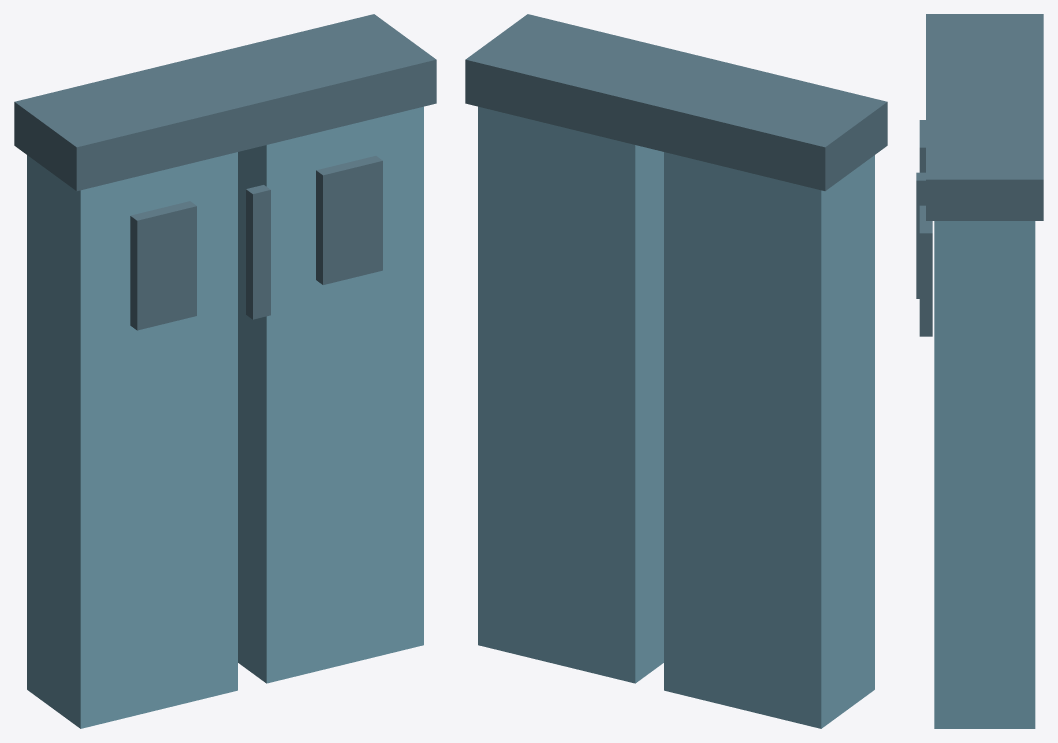
Rendered from pants.glb.
The picture shows the model from 3 angles, left to right: view 1: azimuth 30°, elevation 25°; view 2: azimuth 150°, elevation 25°; view 3: azimuth 270°, elevation 25°; orthographic projection. The views are drawn at different scales.
Visible parts, largest first — view 1: pants-1, pants-2, pants-0, pants-3, pants-4, pants-5; view 2: pants-1, pants-2, pants-0; view 3: pants-2, pants-0, pants-4, pants-5, pants-3.
Boxes of the visible parts, x1,y1,x2,y2 form: pants-1: (27,152,237,728); pants-2: (238,106,423,683); pants-0: (14,14,436,190); pants-3: (130,201,196,330); pants-4: (316,156,382,284); pants-5: (246,185,270,319); pants-1: (664,152,874,728); pants-2: (478,106,663,683); pants-0: (465,14,887,190); pants-2: (934,221,1035,728); pants-0: (926,14,1043,220); pants-4: (919,205,932,336); pants-5: (916,172,925,298); pants-3: (919,120,925,172).
Size of the model in its own units: 2.4 by 3.74 by 0.78.
